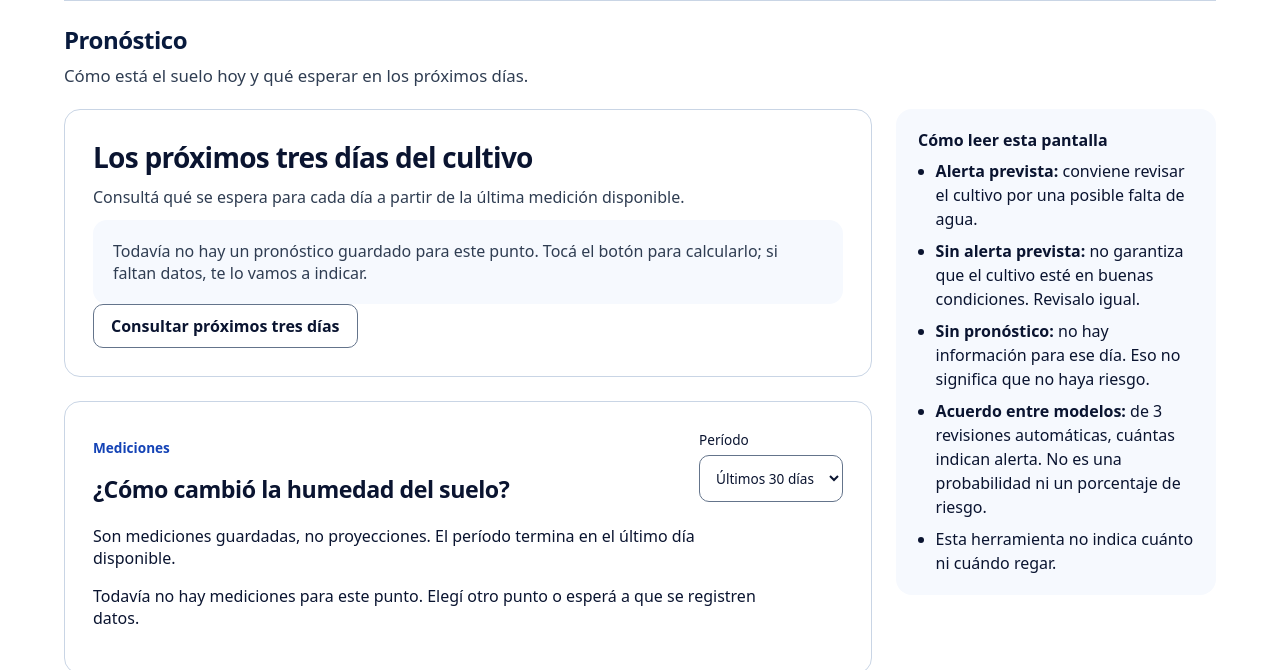
Test case: ProducerView › answers in plain words after an explicit consultation, with the three days at a glance and the data age
(page scrolled)
Click the button "Consultar próximos tres días" at (225, 326), box 93,304 -> 358,348
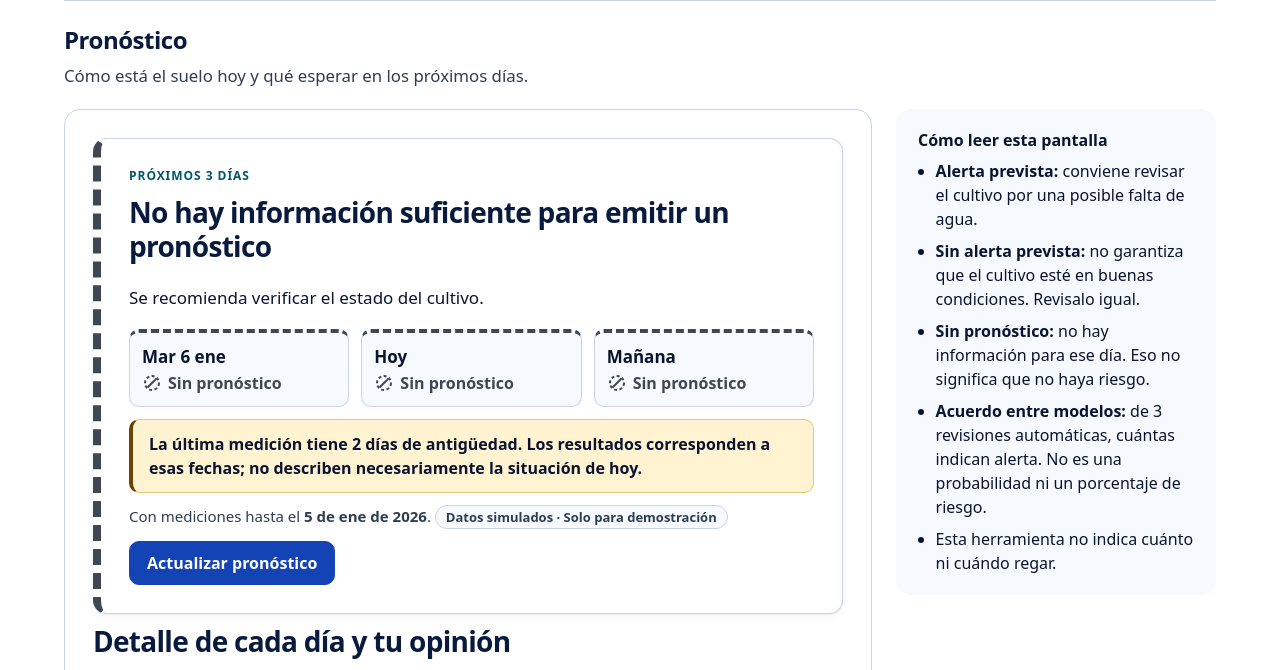
expect the heading "No hay información suficiente para emitir un pronóstico" is shown: met, box 129,196 -> 814,264
expect the list named "los próximos tres días" is shown: met, box 129,329 -> 814,407
expect the text "La última medición tiene 2 días de antigüedad" is shown: met, box 149,433 -> 770,479
